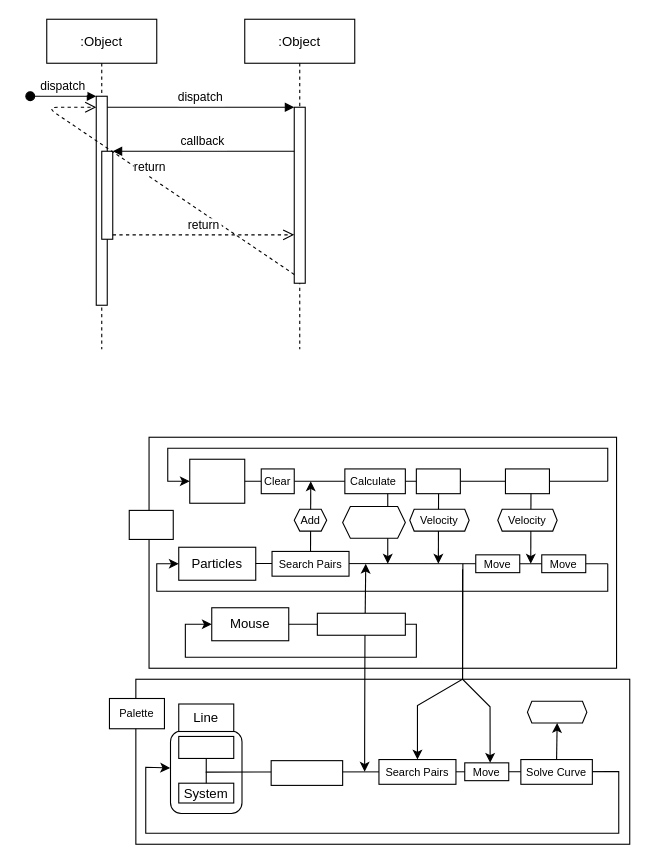
The diagram is 649 pixels wide and 864 high, and some of its shapes have lost their labels. Here are the shapes that lost their labels. From the top down, the centre of each, then its label:
point (217, 480): Pairs
point (437, 481): SPH
point (526, 481): XSPH
point (150, 524): Fluid
point (373, 521): Density Pressure
point (360, 623): Stroke + Drop
point (556, 711): Display
point (206, 746): Point
point (306, 772): Add Points
